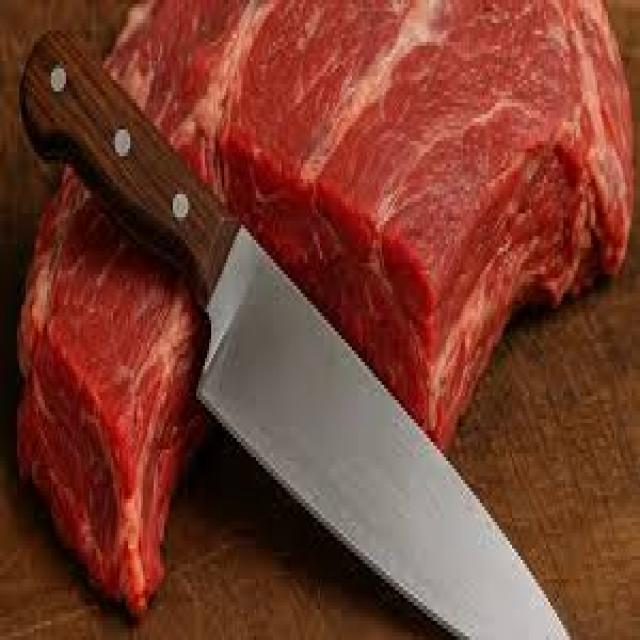Knife: (19, 30, 567, 636)
